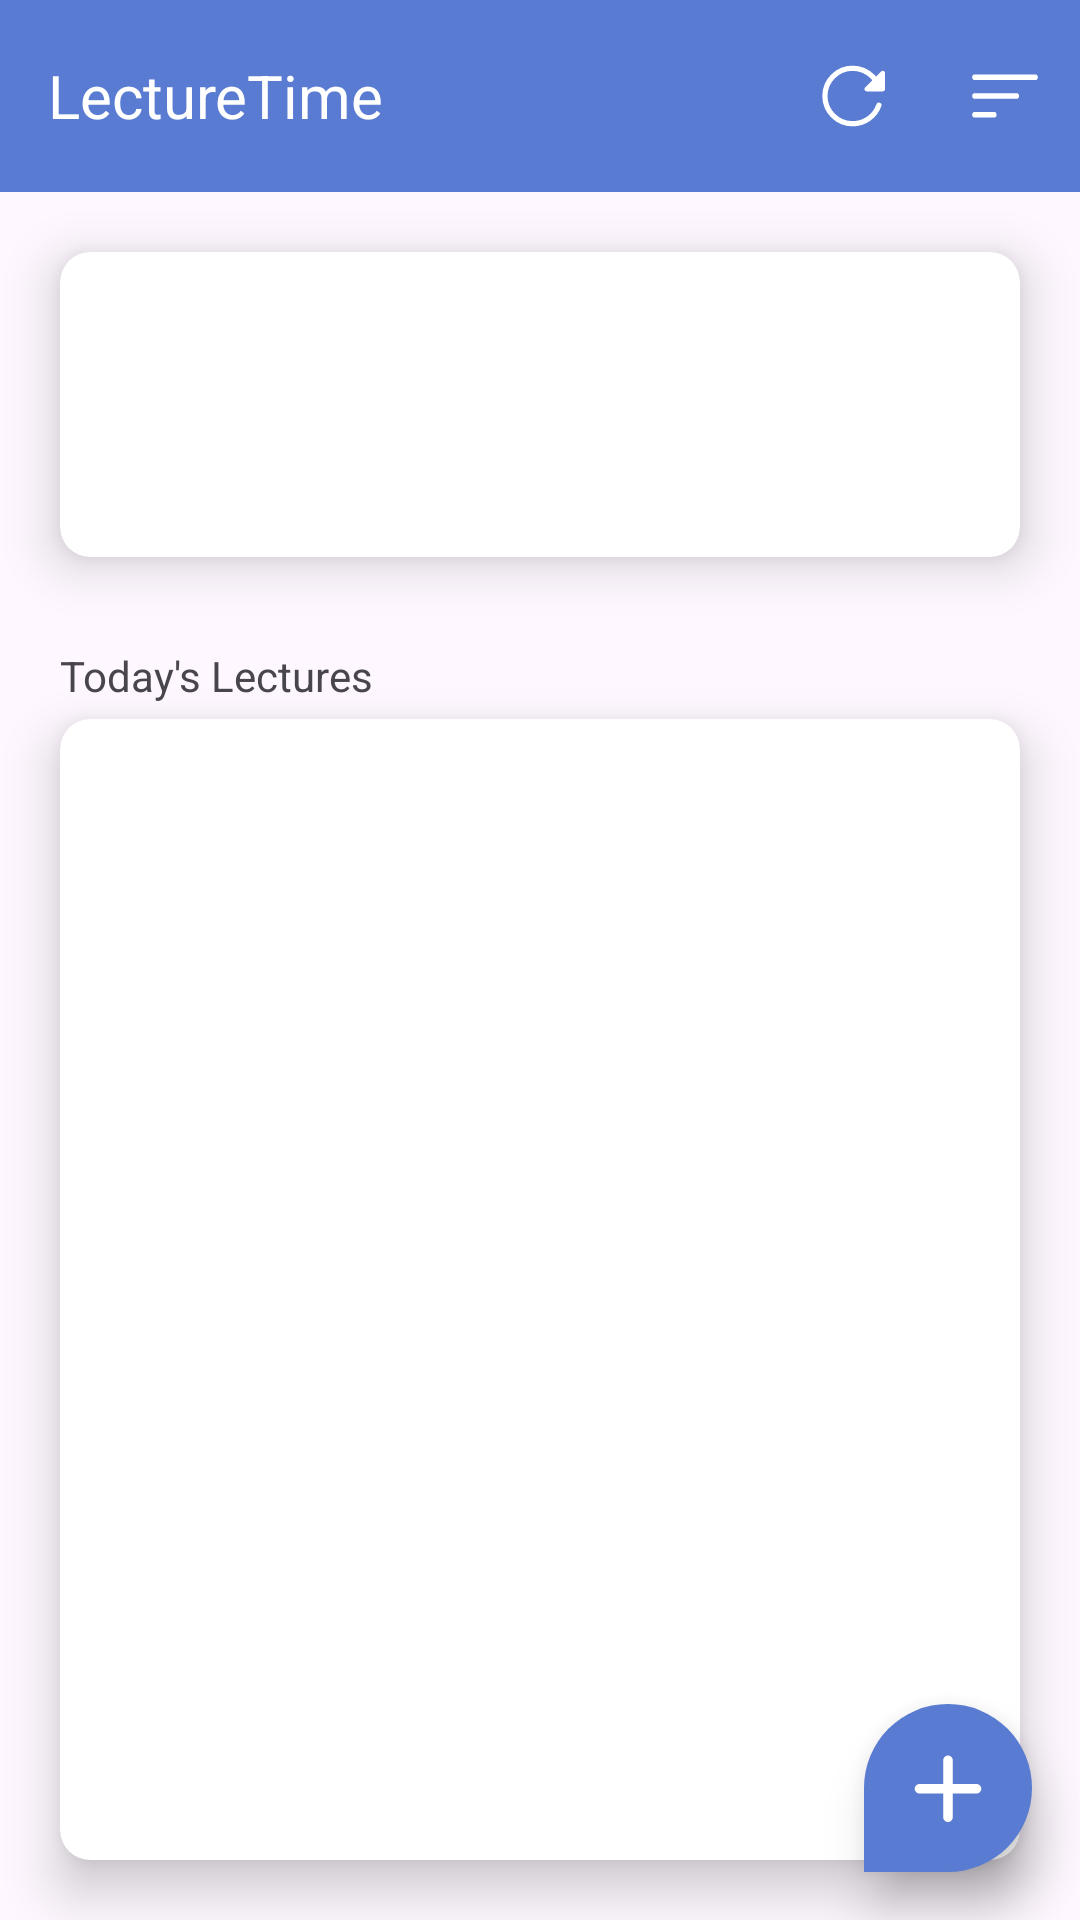

Icon click points for this 1080 x 1920 phone screenshot, format (x,y):
Add New Lecture: (948,1788)
list: (1005,96)
reload: (853,96)
